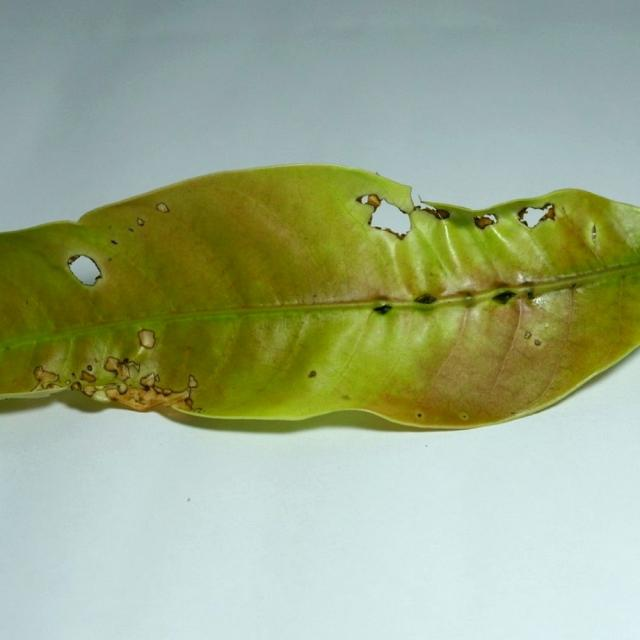Anthracnose: (479, 218, 523, 270), (435, 215, 465, 285), (63, 253, 112, 290), (363, 195, 407, 235), (128, 323, 169, 355), (125, 333, 158, 368), (518, 206, 545, 228), (417, 204, 450, 220), (475, 213, 498, 229), (414, 293, 438, 305), (464, 294, 483, 309), (81, 370, 97, 383), (366, 194, 381, 207), (156, 202, 170, 213), (358, 194, 371, 205), (67, 254, 80, 265), (308, 370, 317, 378), (137, 218, 145, 226)
Mango: (0, 164, 639, 437)
